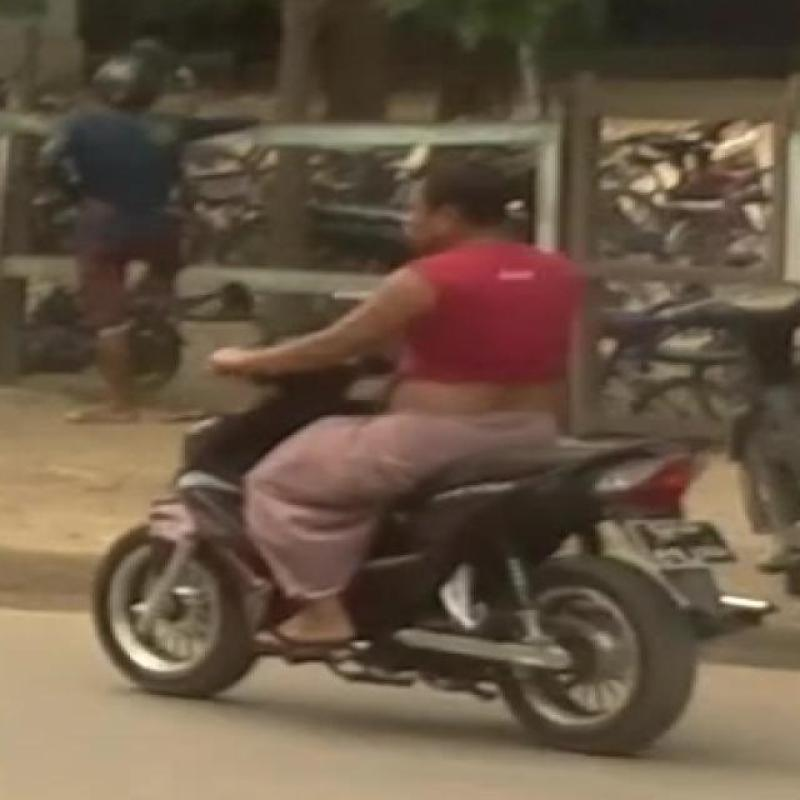nohelmet: (366, 127, 564, 272)
